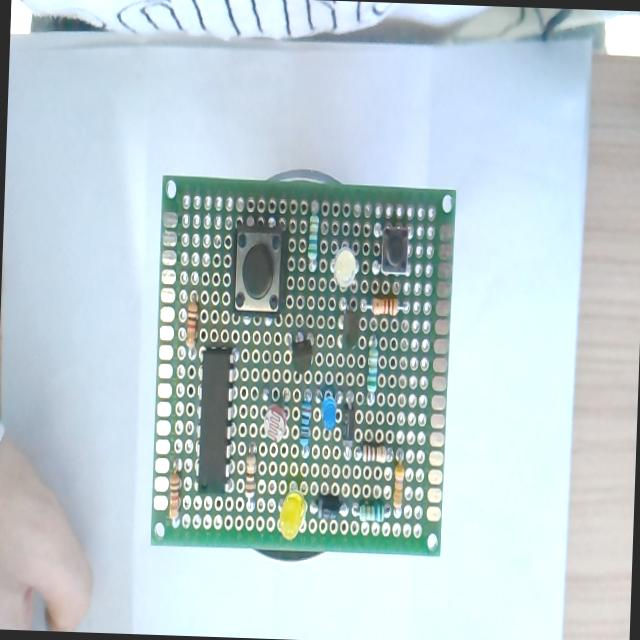IC: (194, 341, 233, 493)
cds: (262, 404, 288, 444)
diode: (316, 494, 346, 524), (342, 404, 354, 456)
led: (277, 490, 306, 540), (318, 377, 341, 432), (332, 245, 358, 290)
resistor: (364, 292, 406, 316), (184, 300, 198, 352), (298, 397, 312, 447), (168, 470, 181, 520), (366, 342, 378, 394), (392, 459, 404, 508), (307, 214, 319, 261), (244, 452, 256, 498), (359, 502, 386, 522), (361, 442, 387, 462)
switch: (228, 225, 284, 318), (380, 223, 410, 276)
transistor: (290, 330, 314, 375), (340, 307, 360, 353)
